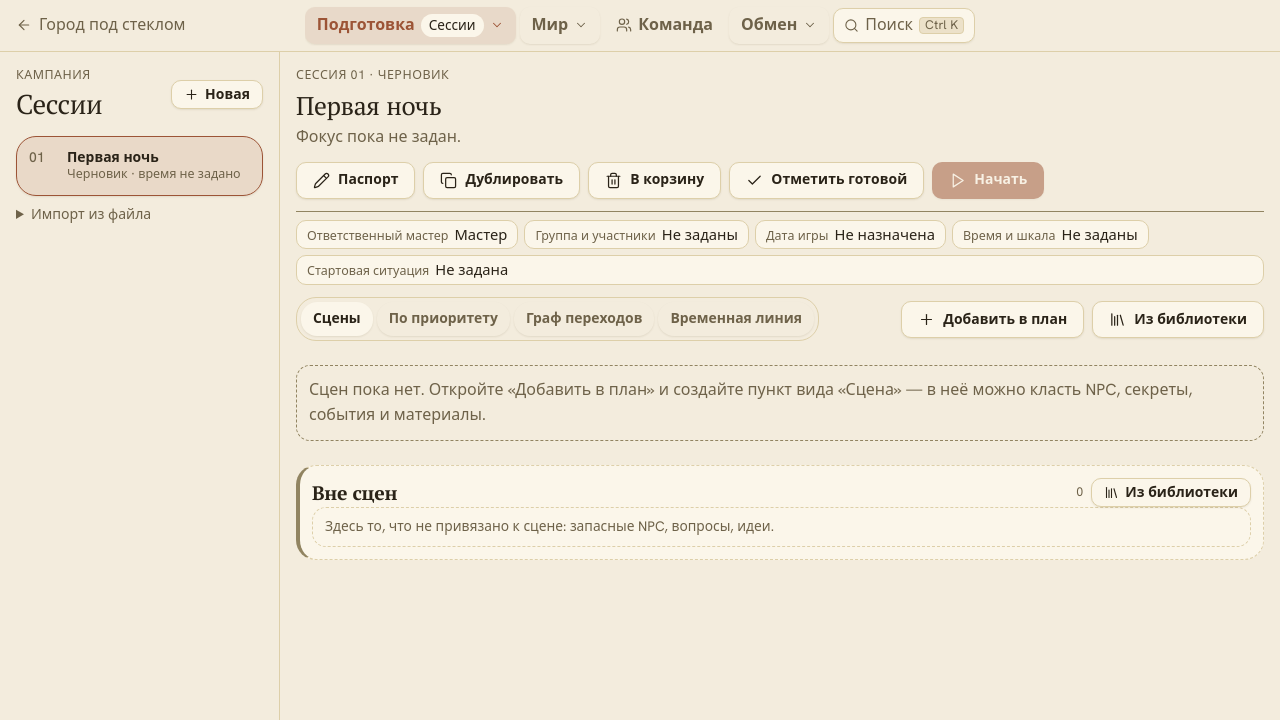
Test: ТЗ-3, этап 4: один примитив диалога › closes an untouched dialog on the backdrop without asking; «Отмена» never asks
Click the button "Паспорт" at [356, 180], box [296,162,415,198]
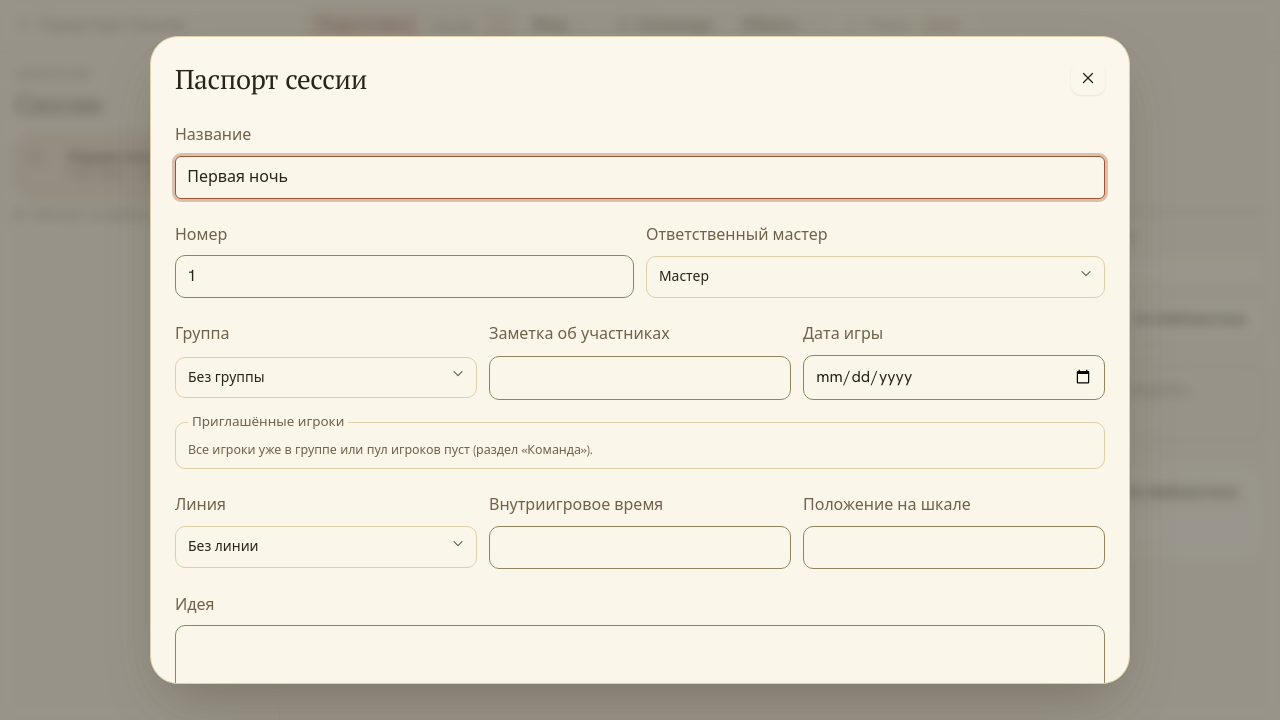
Press the mouse on the element that starts with "Паспорт сессии" at [640, 360], box [0,0,1279,719]
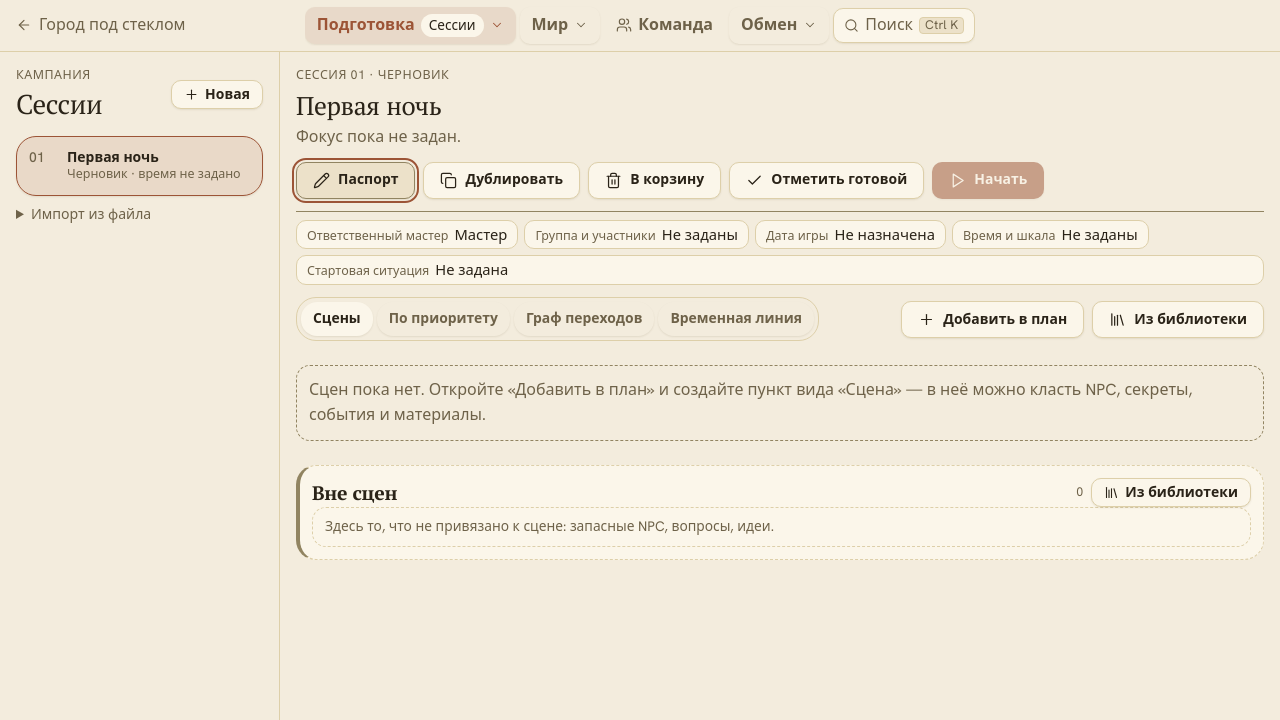
Check: the dialog is gone
Click the button "Паспорт" at [356, 180], box [296,162,415,198]
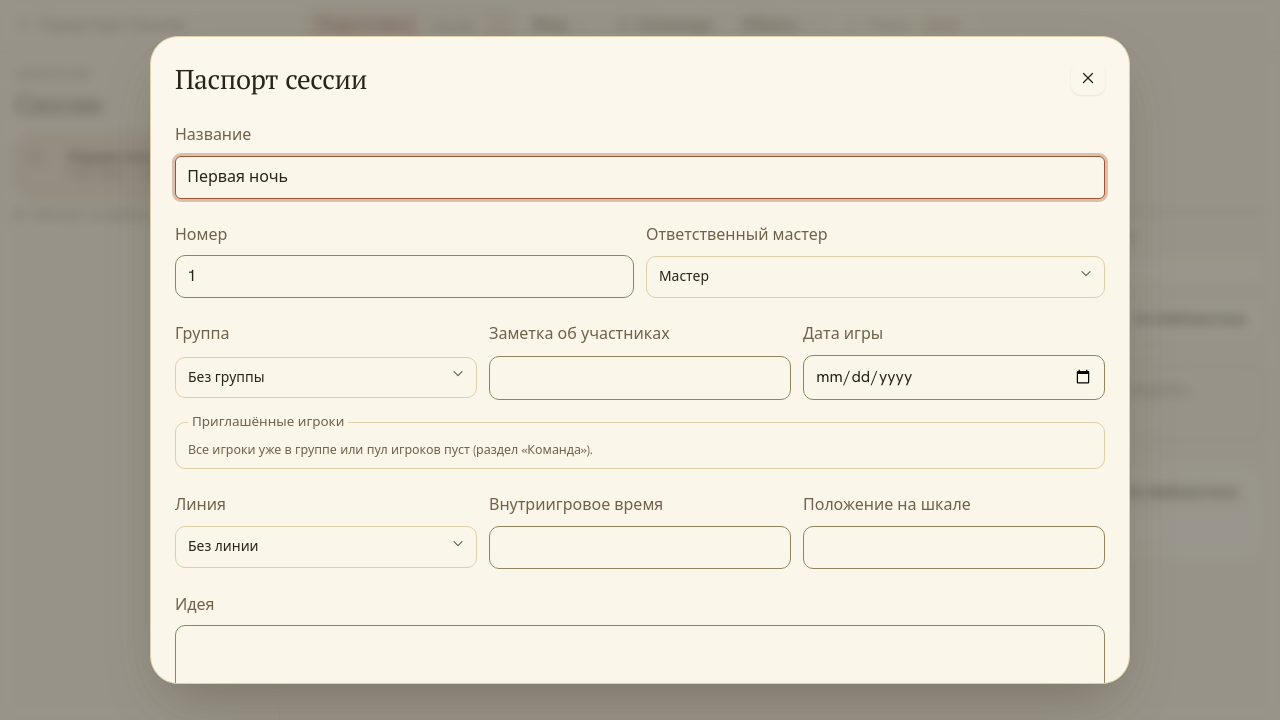
Type "!" into the field labelled "Название" at [640, 177], box [175,156,1105,199]
(page scrolled)
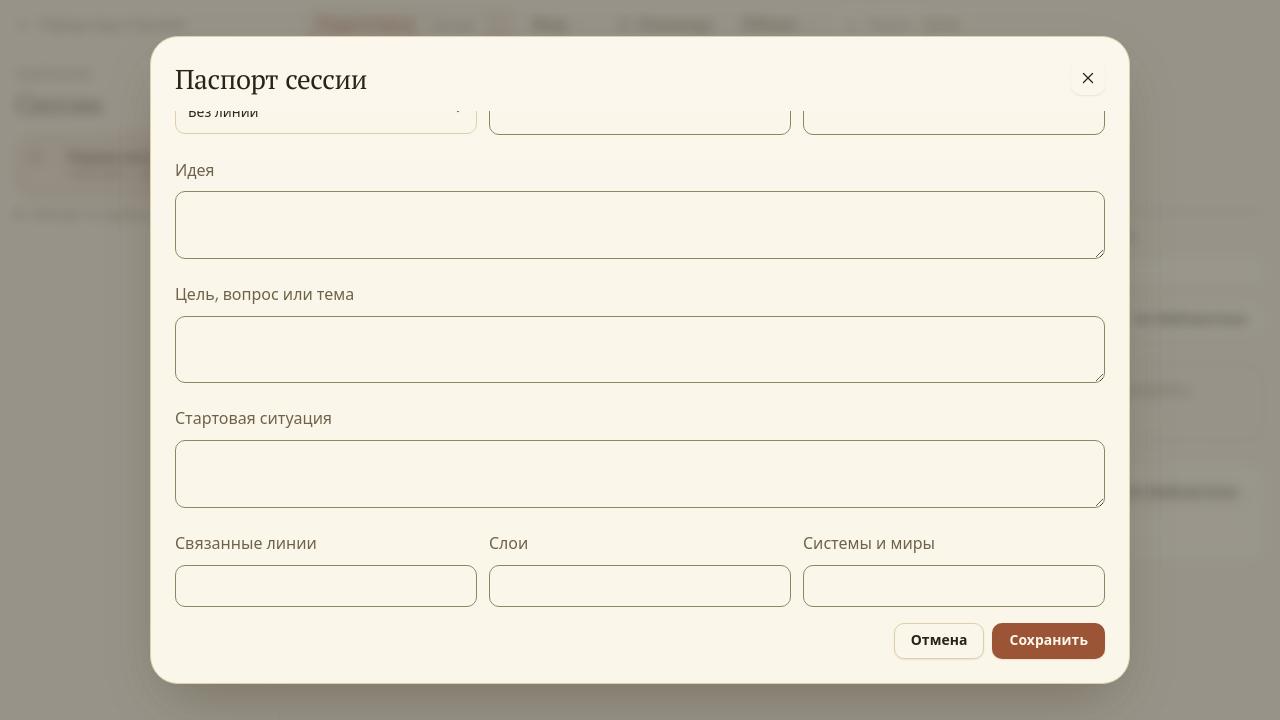
Click the button "Отмена" at [939, 641], box [894,623,984,659]
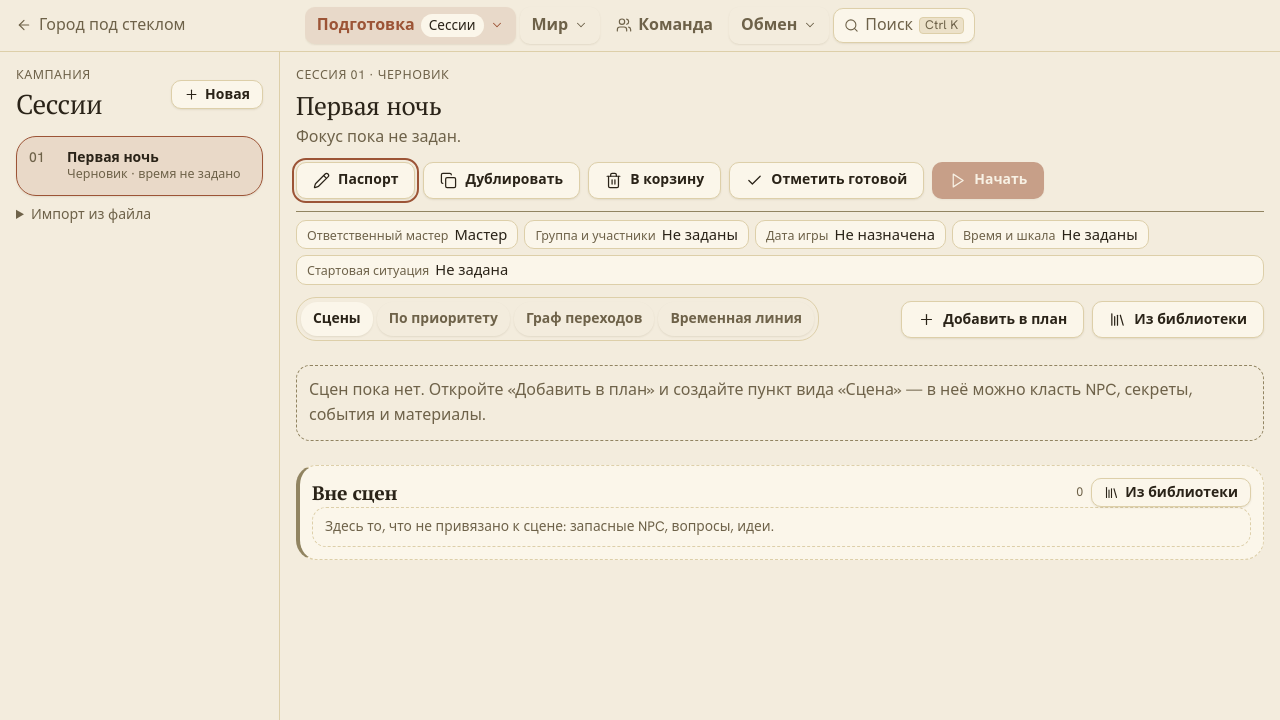
Check: the dialog is gone
